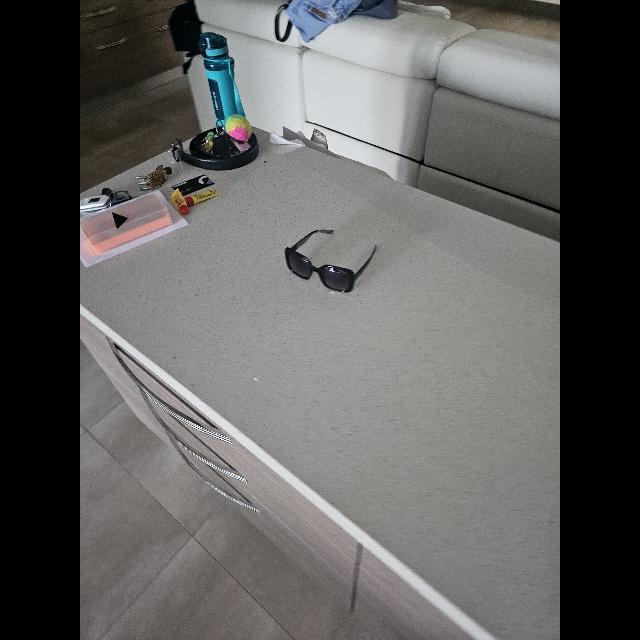Sunglasses: (285, 230, 377, 292)
